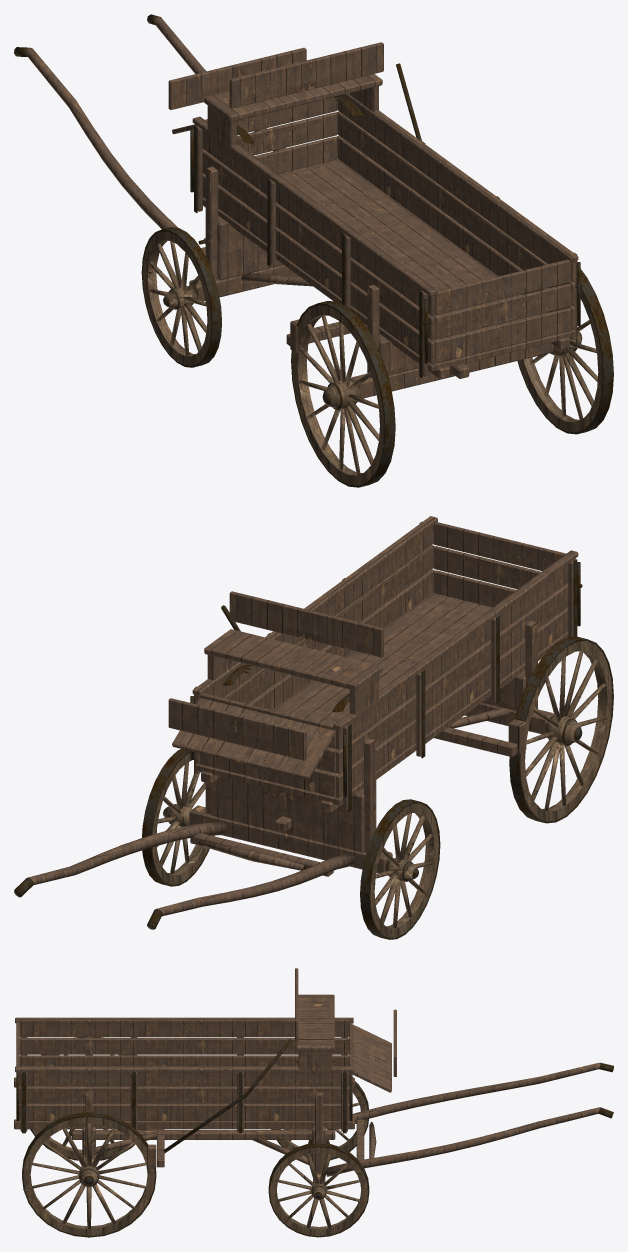
File: wagon_farm.glb
3 views of the same model, one above another, from view 1: azimuth 30°, elevation 25°; view 2: azimuth 150°, elevation 25°; view 3: azimuth 270°, elevation 25° (orthographic). The views are drawn at different scales.
Visible parts, largest first — view 1: wagon_farm; view 2: wagon_farm; view 3: wagon_farm.
Part boxes in pixels (<box>): wagon_farm: <box>14,14,613,487</box>; wagon_farm: <box>14,516,613,939</box>; wagon_farm: <box>14,968,613,1237</box>.
Size of the model in its own units: 1.87 by 2 by 5.35.
Materials: 3 (3 with a texture image).
